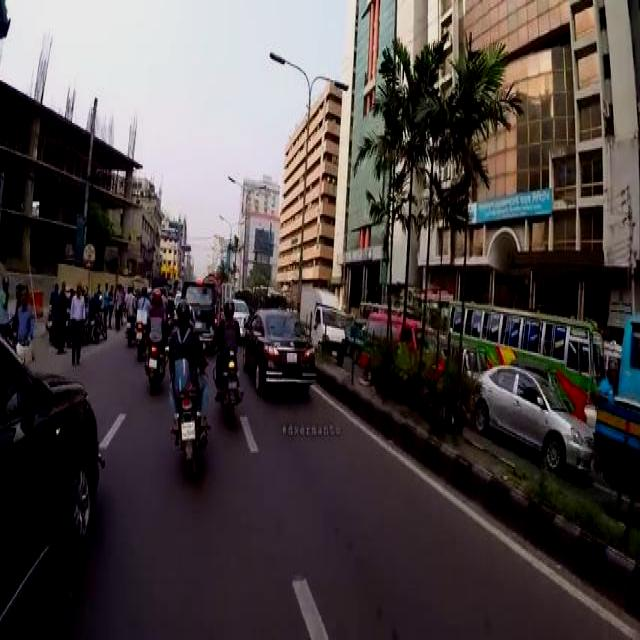MOTORCYCLE: (176, 378, 208, 489), (217, 346, 243, 432), (146, 326, 166, 392)
